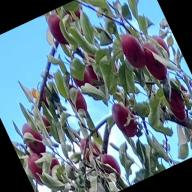Apples: (138, 39, 170, 82), (109, 100, 141, 138), (119, 33, 150, 72), (19, 118, 49, 157), (45, 12, 72, 48), (160, 78, 188, 112), (81, 52, 106, 86), (78, 135, 104, 166), (25, 153, 50, 183), (66, 84, 90, 115), (99, 152, 123, 181), (151, 32, 173, 61), (70, 64, 94, 90), (42, 152, 62, 176), (38, 84, 56, 109), (64, 0, 84, 22), (170, 103, 188, 123), (38, 113, 53, 134)
